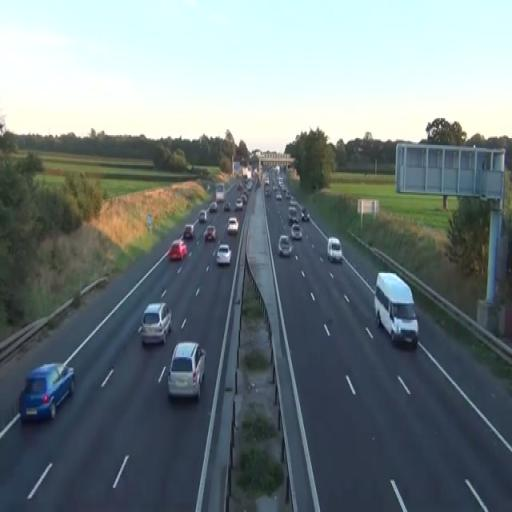Car: (18, 362, 76, 423), (374, 272, 419, 348), (167, 340, 207, 402), (139, 302, 172, 346), (168, 239, 187, 262), (327, 238, 343, 263), (216, 244, 232, 267), (278, 234, 292, 258), (204, 225, 216, 241), (291, 224, 303, 240), (228, 217, 238, 234)
